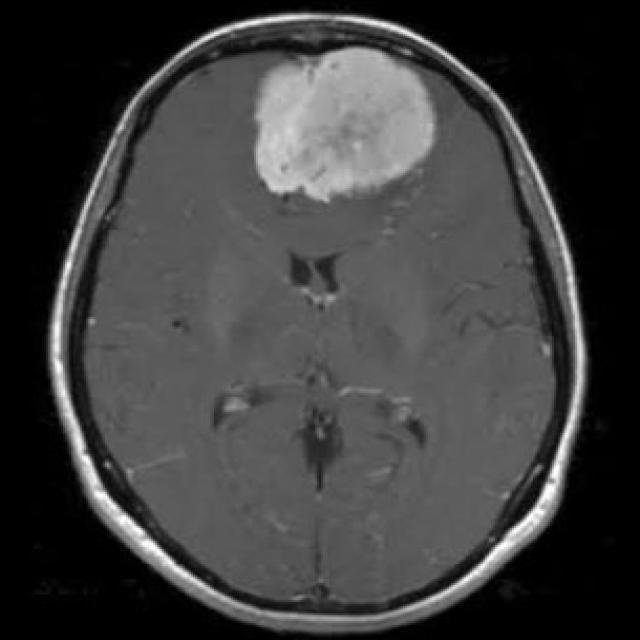Meningioma: (256, 49, 435, 203)
